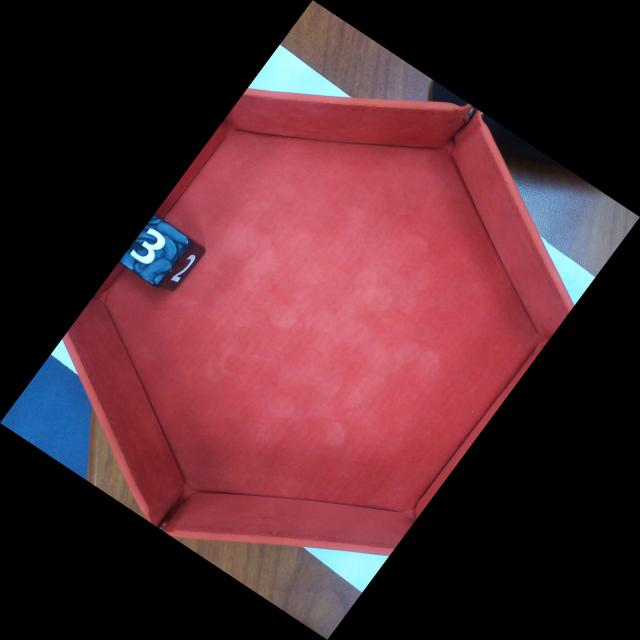dice: (118, 213, 193, 288)
